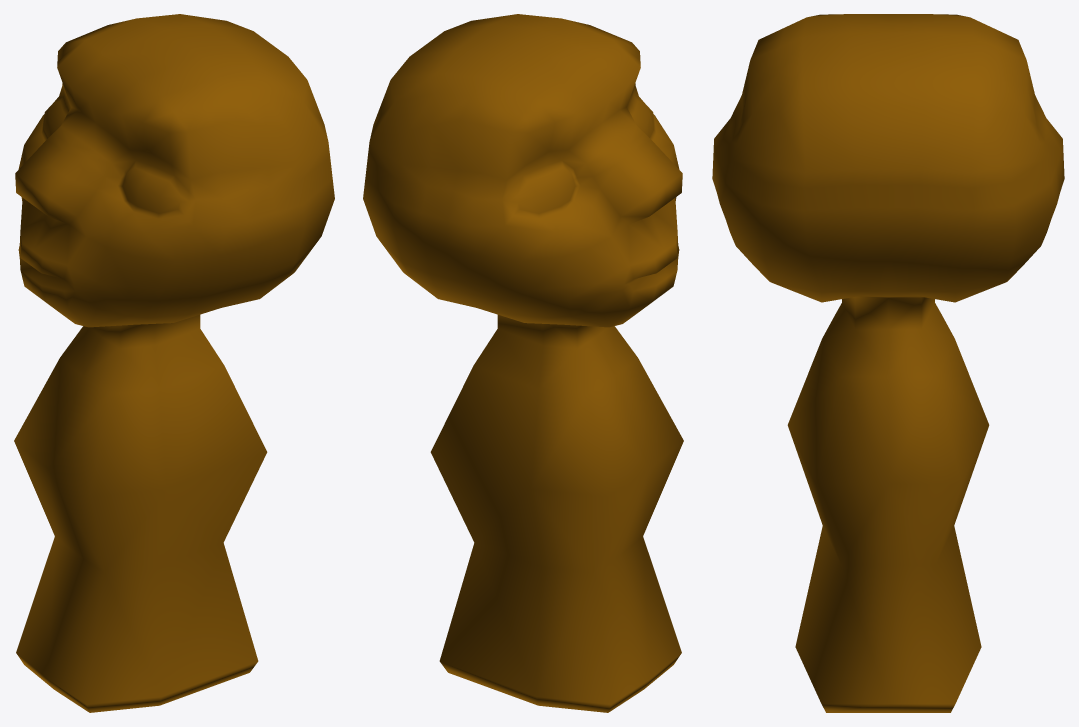
Rendered from Statue_01.fbx.
3 views of the same model, side by side, from view 1: azimuth 30°, elevation 25°; view 2: azimuth 150°, elevation 25°; view 3: azimuth 270°, elevation 25° (orthographic). The views are drawn at different scales.
Parts seen in each view (by area): view 1: Statue_01; view 2: Statue_01; view 3: Statue_01.
Boxes of the visible parts, <box> form: Statue_01: <box>14,14,334,712</box>; Statue_01: <box>363,14,683,712</box>; Statue_01: <box>712,14,1064,712</box>.
Size of the model in its own units: 16.81 by 37.87 by 18.35.
